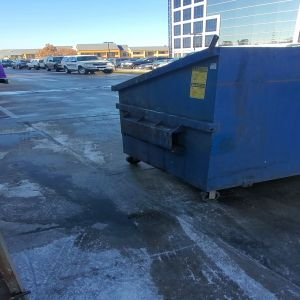Dumpster: (113, 47, 300, 203)
